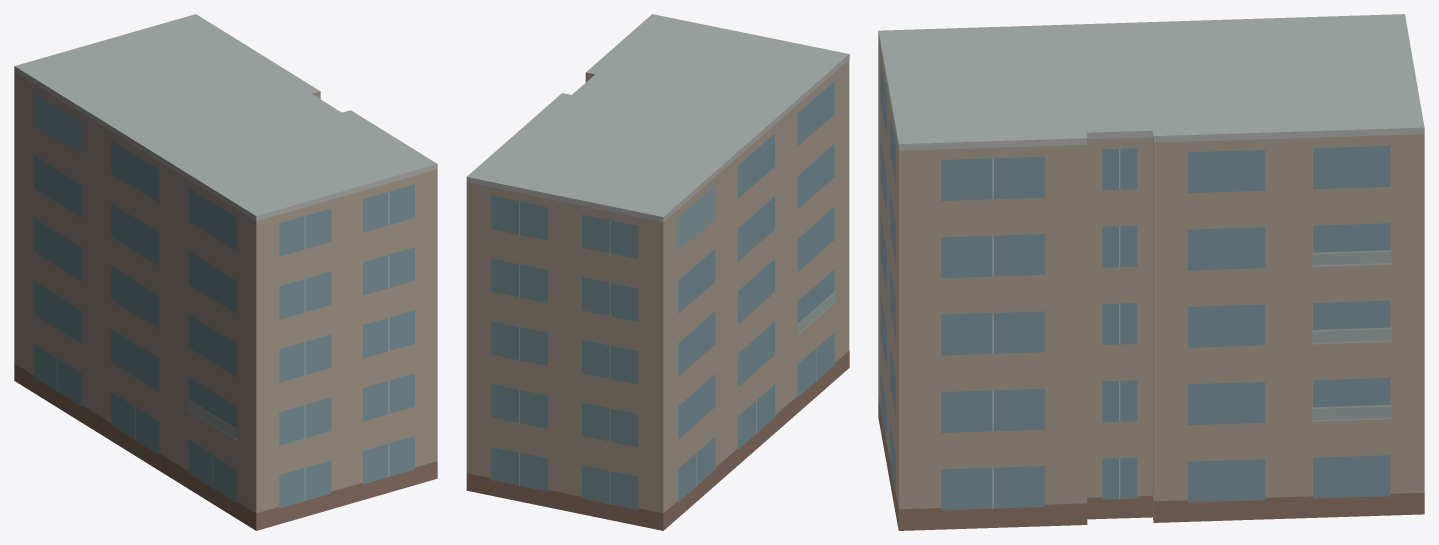
File: survey-upis-32531477.glb
The picture shows the model from 3 angles, left to right: view 1: azimuth 30°, elevation 25°; view 2: azimuth 150°, elevation 25°; view 3: azimuth 270°, elevation 25°; orthographic projection. The views are drawn at different scales.
Parts seen in each view (by area): view 1: survey-upis-32531477.tmp; view 2: survey-upis-32531477.tmp; view 3: survey-upis-32531477.tmp.
Part boxes in pixels (box(x1,y1,x2,y2)): survey-upis-32531477.tmp: box(14, 14, 437, 530); survey-upis-32531477.tmp: box(466, 14, 849, 530); survey-upis-32531477.tmp: box(878, 14, 1424, 530).
Bounding box in the file's own units: 10.48 × 14.5 × 18.57.
